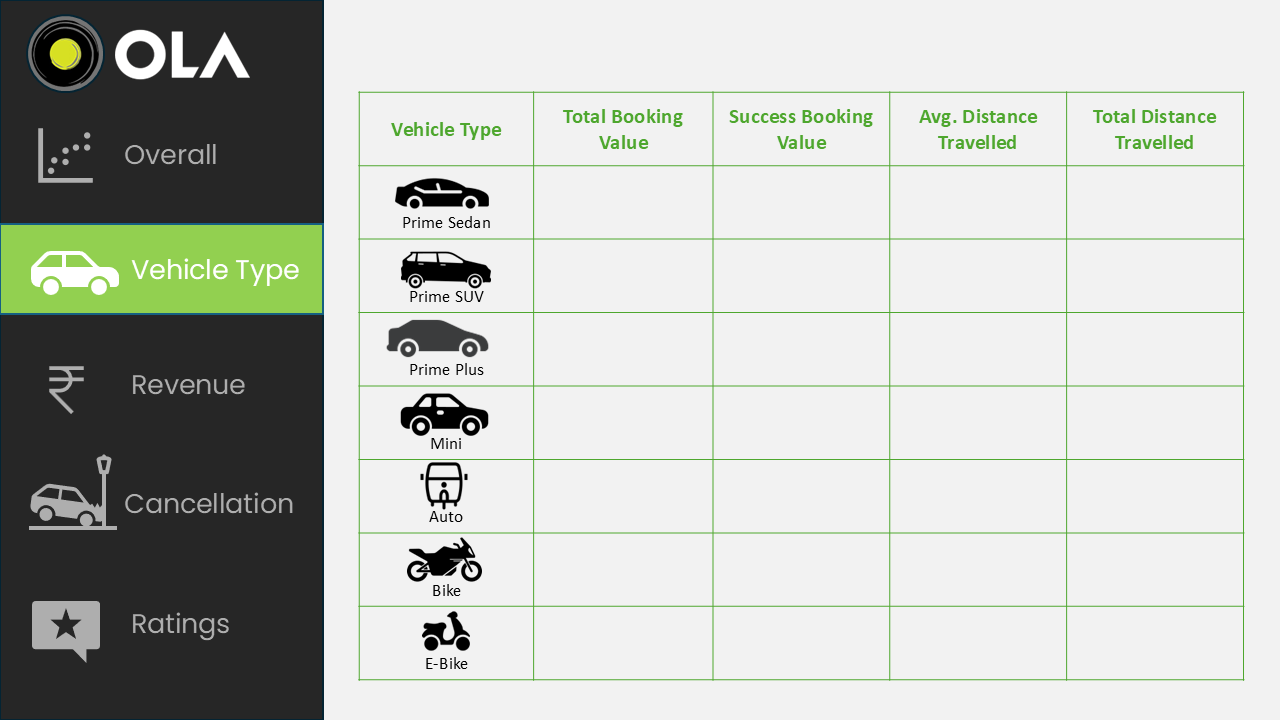

Layout of this report page (visuals, bound fields, positions):
{"tool":"powerbi","page":{"name":"Vehicle Type","canvas":[1280,720],"ordinal":1},"visuals":[{"type":"actionButton","box":[0,224,320,96],"z":0},{"type":"actionButton","box":[0,336,320,96],"z":1000},{"type":"actionButton","box":[0,448,320,96],"z":2000},{"type":"actionButton","box":[0,576,320,96],"z":3000},{"type":"actionButton","box":[0,112,320,96],"z":4000},{"type":"card","fields":{"Values":["Sum(Bookings - July.Booking_Value)"]},"box":[544,176,144,48],"z":5000},{"type":"card","fields":{"Values":["Sum(Bookings - July.Booking_Value)"]},"box":[544,256,144,48],"z":6000},{"type":"card","fields":{"Values":["Sum(Bookings - July.Booking_Value)"]},"box":[544,320,144,64],"z":7000},{"type":"card","fields":{"Values":["Sum(Bookings - July.Booking_Value)"]},"box":[544,400,144,48],"z":8000},{"type":"card","fields":{"Values":["Sum(Bookings - July.Booking_Value)"]},"box":[544,464,144,64],"z":9000},{"type":"card","fields":{"Values":["Sum(Bookings - July.Booking_Value)"]},"box":[544,528,144,80],"z":10000},{"type":"card","fields":{"Values":["Sum(Bookings - July.Booking_Value)"]},"box":[544,608,144,64],"z":11000},{"type":"card","fields":{"Values":["Sum(Bookings - July.Booking_Value)"]},"box":[720,176,144,48],"z":12000},{"type":"card","fields":{"Values":["Sum(Bookings - July.Booking_Value)"]},"box":[720,256,144,48],"z":13000},{"type":"card","fields":{"Values":["Sum(Bookings - July.Booking_Value)"]},"box":[720,320,144,64],"z":14000},{"type":"card","fields":{"Values":["Sum(Bookings - July.Booking_Value)"]},"box":[720,544,144,48],"z":15000},{"type":"card","fields":{"Values":["Sum(Bookings - July.Booking_Value)"]},"box":[720,464,144,64],"z":16000},{"type":"card","fields":{"Values":["Sum(Bookings - July.Booking_Value)"]},"box":[720,384,144,80],"z":17000},{"type":"card","fields":{"Values":["Sum(Bookings - July.Booking_Value)"]},"box":[720,608,144,64],"z":18000},{"type":"card","fields":{"Values":["Avg(Bookings - July.Ride_Distance)"]},"box":[896,176,144,48],"z":19000},{"type":"card","fields":{"Values":["Avg(Bookings - July.Ride_Distance)"]},"box":[896,256,144,48],"z":20000},{"type":"card","fields":{"Values":["Avg(Bookings - July.Ride_Distance)"]},"box":[896,608,144,64],"z":21000},{"type":"card","fields":{"Values":["Avg(Bookings - July.Ride_Distance)"]},"box":[896,544,144,48],"z":22000},{"type":"card","fields":{"Values":["Avg(Bookings - July.Ride_Distance)"]},"box":[896,464,144,64],"z":23000},{"type":"card","fields":{"Values":["Avg(Bookings - July.Ride_Distance)"]},"box":[896,400,144,48],"z":24000},{"type":"card","fields":{"Values":["Avg(Bookings - July.Ride_Distance)"]},"box":[896,320,144,48],"z":25000},{"type":"card","fields":{"Values":["Sum(Bookings - July.Ride_Distance)"]},"box":[1072,176,160,48],"z":26000},{"type":"card","fields":{"Values":["Sum(Bookings - July.Ride_Distance)"]},"box":[1072,256,160,48],"z":27000},{"type":"card","fields":{"Values":["Sum(Bookings - July.Ride_Distance)"]},"box":[1072,320,144,48],"z":28000},{"type":"card","fields":{"Values":["Sum(Bookings - July.Ride_Distance)"]},"box":[1056,400,176,48],"z":29000},{"type":"card","fields":{"Values":["Sum(Bookings - July.Ride_Distance)"]},"box":[1056,464,176,64],"z":30000},{"type":"card","fields":{"Values":["Sum(Bookings - July.Ride_Distance)"]},"box":[1056,544,176,48],"z":31000},{"type":"card","fields":{"Values":["Sum(Bookings - July.Ride_Distance)"]},"box":[1072,608,144,64],"z":32000},{"type":"slicer","title":"Date","fields":{"Values":["Bookings - July.Date"]},"box":[992,16,256,64],"z":33000}]}

Visuals, with their boxes in screenshot pixels (x1, y1, x2, y2), scaled from the page's 1280x720 canvas onto the 1280x720 screenshot:
actionButton: x1=0, y1=224, x2=320, y2=320
actionButton: x1=0, y1=336, x2=320, y2=432
actionButton: x1=0, y1=448, x2=320, y2=544
actionButton: x1=0, y1=576, x2=320, y2=672
actionButton: x1=0, y1=112, x2=320, y2=208
card - Sum(Bookings - July.Booking_Value): x1=544, y1=176, x2=688, y2=224
card - Sum(Bookings - July.Booking_Value): x1=544, y1=256, x2=688, y2=304
card - Sum(Bookings - July.Booking_Value): x1=544, y1=320, x2=688, y2=384
card - Sum(Bookings - July.Booking_Value): x1=544, y1=400, x2=688, y2=448
card - Sum(Bookings - July.Booking_Value): x1=544, y1=464, x2=688, y2=528
card - Sum(Bookings - July.Booking_Value): x1=544, y1=528, x2=688, y2=608
card - Sum(Bookings - July.Booking_Value): x1=544, y1=608, x2=688, y2=672
card - Sum(Bookings - July.Booking_Value): x1=720, y1=176, x2=864, y2=224
card - Sum(Bookings - July.Booking_Value): x1=720, y1=256, x2=864, y2=304
card - Sum(Bookings - July.Booking_Value): x1=720, y1=320, x2=864, y2=384
card - Sum(Bookings - July.Booking_Value): x1=720, y1=544, x2=864, y2=592
card - Sum(Bookings - July.Booking_Value): x1=720, y1=464, x2=864, y2=528
card - Sum(Bookings - July.Booking_Value): x1=720, y1=384, x2=864, y2=464
card - Sum(Bookings - July.Booking_Value): x1=720, y1=608, x2=864, y2=672
card - Avg(Bookings - July.Ride_Distance): x1=896, y1=176, x2=1040, y2=224
card - Avg(Bookings - July.Ride_Distance): x1=896, y1=256, x2=1040, y2=304
card - Avg(Bookings - July.Ride_Distance): x1=896, y1=608, x2=1040, y2=672
card - Avg(Bookings - July.Ride_Distance): x1=896, y1=544, x2=1040, y2=592
card - Avg(Bookings - July.Ride_Distance): x1=896, y1=464, x2=1040, y2=528
card - Avg(Bookings - July.Ride_Distance): x1=896, y1=400, x2=1040, y2=448
card - Avg(Bookings - July.Ride_Distance): x1=896, y1=320, x2=1040, y2=368
card - Sum(Bookings - July.Ride_Distance): x1=1072, y1=176, x2=1232, y2=224
card - Sum(Bookings - July.Ride_Distance): x1=1072, y1=256, x2=1232, y2=304
card - Sum(Bookings - July.Ride_Distance): x1=1072, y1=320, x2=1216, y2=368
card - Sum(Bookings - July.Ride_Distance): x1=1056, y1=400, x2=1232, y2=448
card - Sum(Bookings - July.Ride_Distance): x1=1056, y1=464, x2=1232, y2=528
card - Sum(Bookings - July.Ride_Distance): x1=1056, y1=544, x2=1232, y2=592
card - Sum(Bookings - July.Ride_Distance): x1=1072, y1=608, x2=1216, y2=672
"Date" slicer: x1=992, y1=16, x2=1248, y2=80
